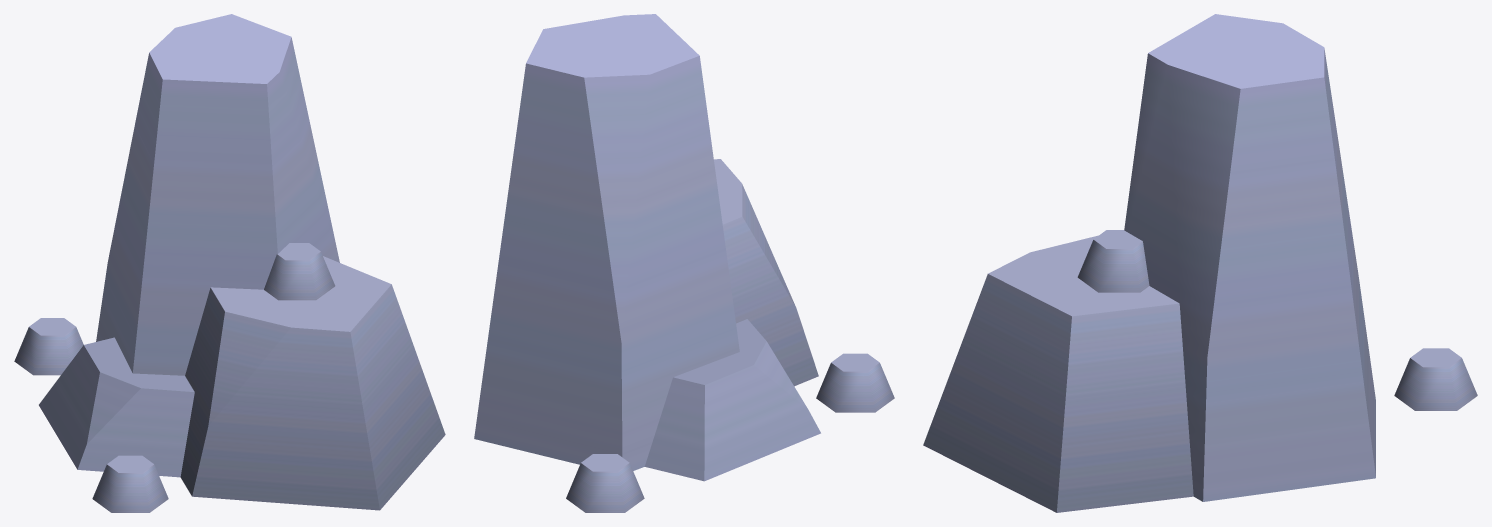
Rendered from rock-small.glb.
3 renders of one model, left to right at view 1: azimuth 30°, elevation 25°; view 2: azimuth 150°, elevation 25°; view 3: azimuth 270°, elevation 25°, orthographic. The views are drawn at different scales.
Visible parts, largest first — view 1: rock-small; view 2: rock-small; view 3: rock-small.
Boxes of the visible parts, left/top/right/bottom form: rock-small: left=14, top=14, right=445, bottom=512; rock-small: left=474, top=14, right=894, bottom=512; rock-small: left=923, top=14, right=1477, bottom=512.
Bounding box in the file's own units: 0.9983 × 1.02 × 1.33.
Materials: 1 (1 with a texture image).
